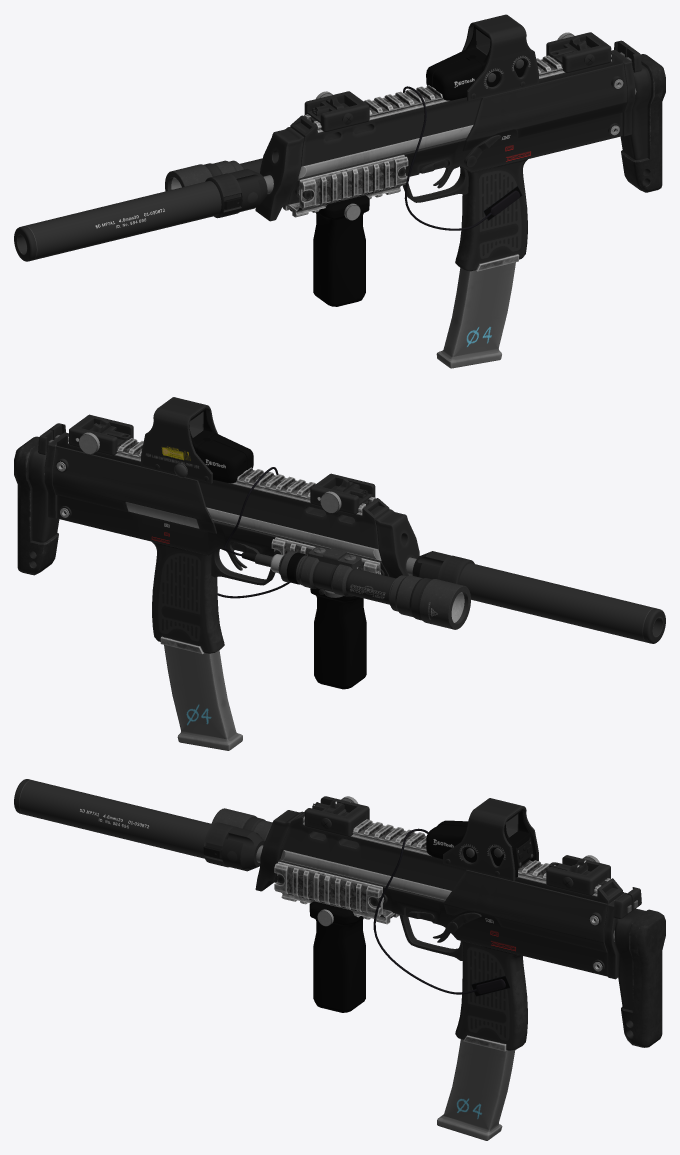
The picture shows the model from 3 angles, top to bottom: view 1: azimuth 30°, elevation 25°; view 2: azimuth 150°, elevation 25°; view 3: azimuth 330°, elevation 25°; orthographic projection.
Parts seen in each view (by area): view 1: polySurface74, polySurface114, polySurface108, MP7_assembly_Road_cross_A7, Receiver2, polySurface65, polySurface82, pPlane16, Picatiny_left, polySurface147, Frontplate3, polySurface117 (+8 smaller); view 2: polySurface74, polySurface114, polySurface84, polySurface72, MP7_assembly_Road_cross_A7, Receiver2, polySurface65, polySurface82, pPlane16, polySurface147, Frontplate3, polySurface117 (+11 smaller); view 3: polySurface74, polySurface114, MP7_assembly_Road_cross_A7, polySurface108, Receiver2, polySurface65, polySurface82, pPlane16, Picatiny_left, polySurface147, polySurface117, Frontplate3 (+7 smaller).
Boxes of the visible parts, x1,y1,x2,y2 form: polySurface74: (288,112,622,271); polySurface114: (14,173,242,261); polySurface108: (462,63,627,151); MP7_assembly_Road_cross_A7: (298,54,665,192); Receiver2: (290,52,622,166); polySurface65: (436,262,515,368); polySurface82: (313,195,369,306); pPlane16: (462,14,539,100); Picatiny_left: (299,155,408,209); polySurface147: (426,25,526,100); Frontplate3: (255,127,304,221); polySurface117: (303,54,611,132); polySurface74: (57,495,388,653); polySurface114: (437,555,665,643); polySurface84: (241,550,470,629); polySurface72: (52,446,216,533); MP7_assembly_Road_cross_A7: (14,436,381,575); Receiver2: (57,434,389,549); polySurface65: (164,645,242,750); polySurface82: (314,595,366,689); pPlane16: (141,397,217,483); polySurface147: (189,408,253,483); Frontplate3: (375,509,419,578); polySurface117: (68,436,376,515); polySurface74: (274,849,607,1050); polySurface114: (14,779,237,867); MP7_assembly_Road_cross_A7: (280,850,665,1047); polySurface108: (443,870,607,952); Receiver2: (280,812,622,904); polySurface65: (437,1039,515,1140); polySurface82: (309,901,365,1012); pPlane16: (443,798,538,880); Picatiny_left: (274,862,382,916); polySurface147: (426,809,536,877); polySurface117: (303,816,610,896); Frontplate3: (255,810,303,891).
Bounding box in the file's own units: 1.7 × 0.846 × 0.2293.
Materials: 9 (9 with a texture image).
